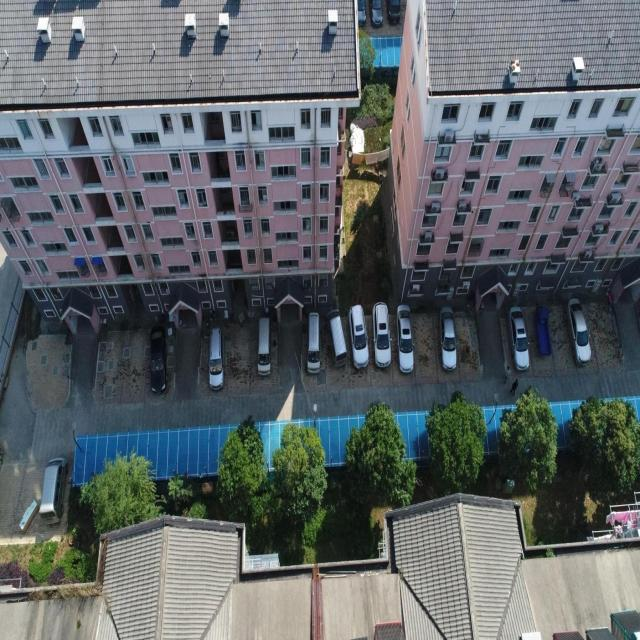p3rson: (502, 365, 510, 384), (510, 377, 518, 394)
